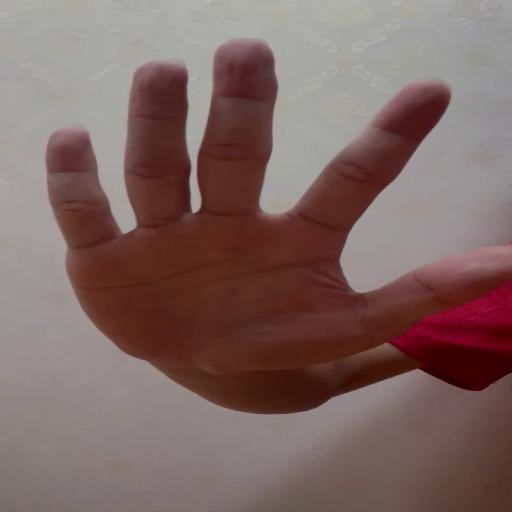open_palm: (44, 35, 509, 372)
